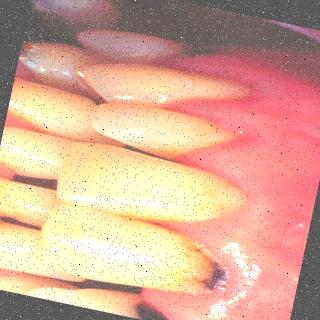Gum Swelling: (162, 215, 308, 320), (178, 124, 300, 218), (174, 42, 288, 124)
cavities: (166, 232, 242, 304), (130, 288, 185, 320)
